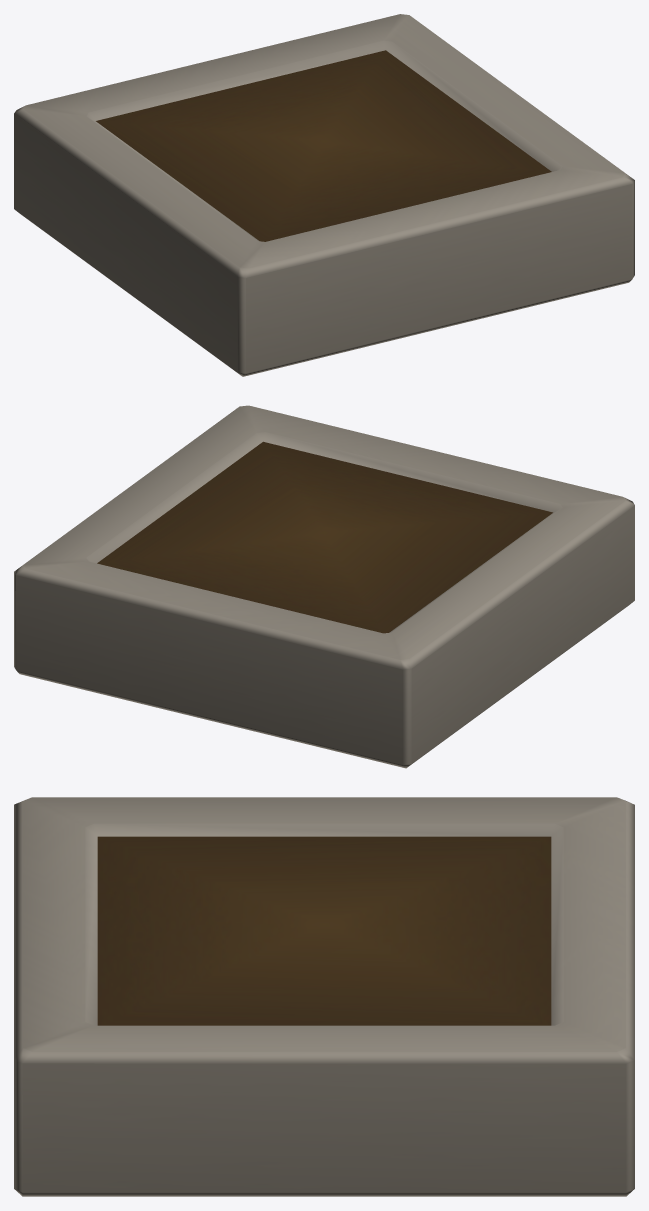
Rendered from plant_box_concrete_2x2x05.fbx.
The picture shows the model from 3 angles, top to bottom: view 1: azimuth 30°, elevation 25°; view 2: azimuth 150°, elevation 25°; view 3: azimuth 270°, elevation 25°; orthographic projection. The views are drawn at different scales.
Parts seen in each view (by area): view 1: plant_box_concrete_2x2x05; view 2: plant_box_concrete_2x2x05; view 3: plant_box_concrete_2x2x05.
Part boxes in pixels (x1,y1,x2,y2): plant_box_concrete_2x2x05: (14,14,634,376); plant_box_concrete_2x2x05: (14,405,634,768); plant_box_concrete_2x2x05: (14,797,634,1196).
Bounding box in the file's own units: 200 × 51.38 × 200.
